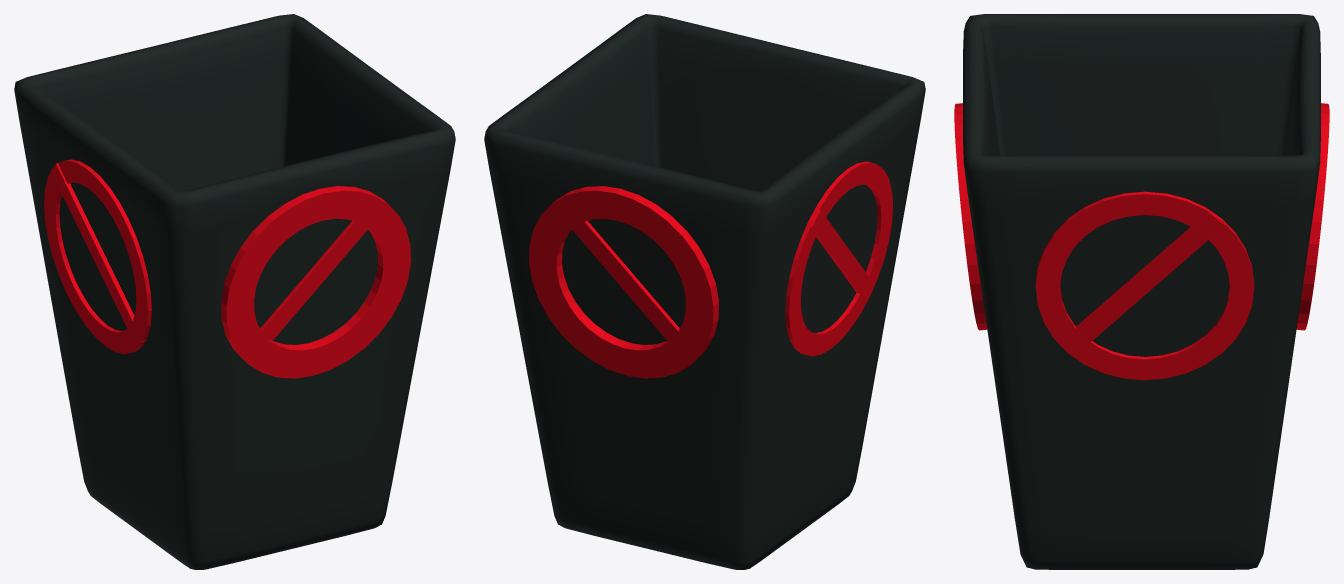
File: TrashCan.fbx
3 renders of one model, left to right at view 1: azimuth 30°, elevation 25°; view 2: azimuth 150°, elevation 25°; view 3: azimuth 270°, elevation 25°, orthographic. The views are drawn at different scales.
Parts seen in each view (by area): view 1: Cube, Circle.002, Circle.001, Plane.002, Plane.001; view 2: Cube, Circle.002, Circle.001, Plane.002, Plane.001; view 3: Cube, Circle.001, Circle.002, Plane.001.
Boxes of the visible parts, box(x1,y1,x2,y2) form: Cube: box(14, 14, 455, 569); Circle.002: box(221, 186, 410, 378); Circle.001: box(44, 159, 151, 354); Plane.002: box(260, 221, 367, 341); Plane.001: box(50, 163, 146, 342); Cube: box(484, 14, 925, 569); Circle.002: box(529, 186, 718, 378); Circle.001: box(785, 161, 892, 356); Plane.002: box(572, 221, 679, 341); Plane.001: box(810, 208, 869, 293); Cube: box(963, 14, 1320, 569); Circle.001: box(1035, 191, 1254, 380); Circle.002: box(954, 103, 1329, 330); Plane.001: box(1074, 210, 1224, 341).
Bounding box in the file's own units: 151 × 201 × 156.
